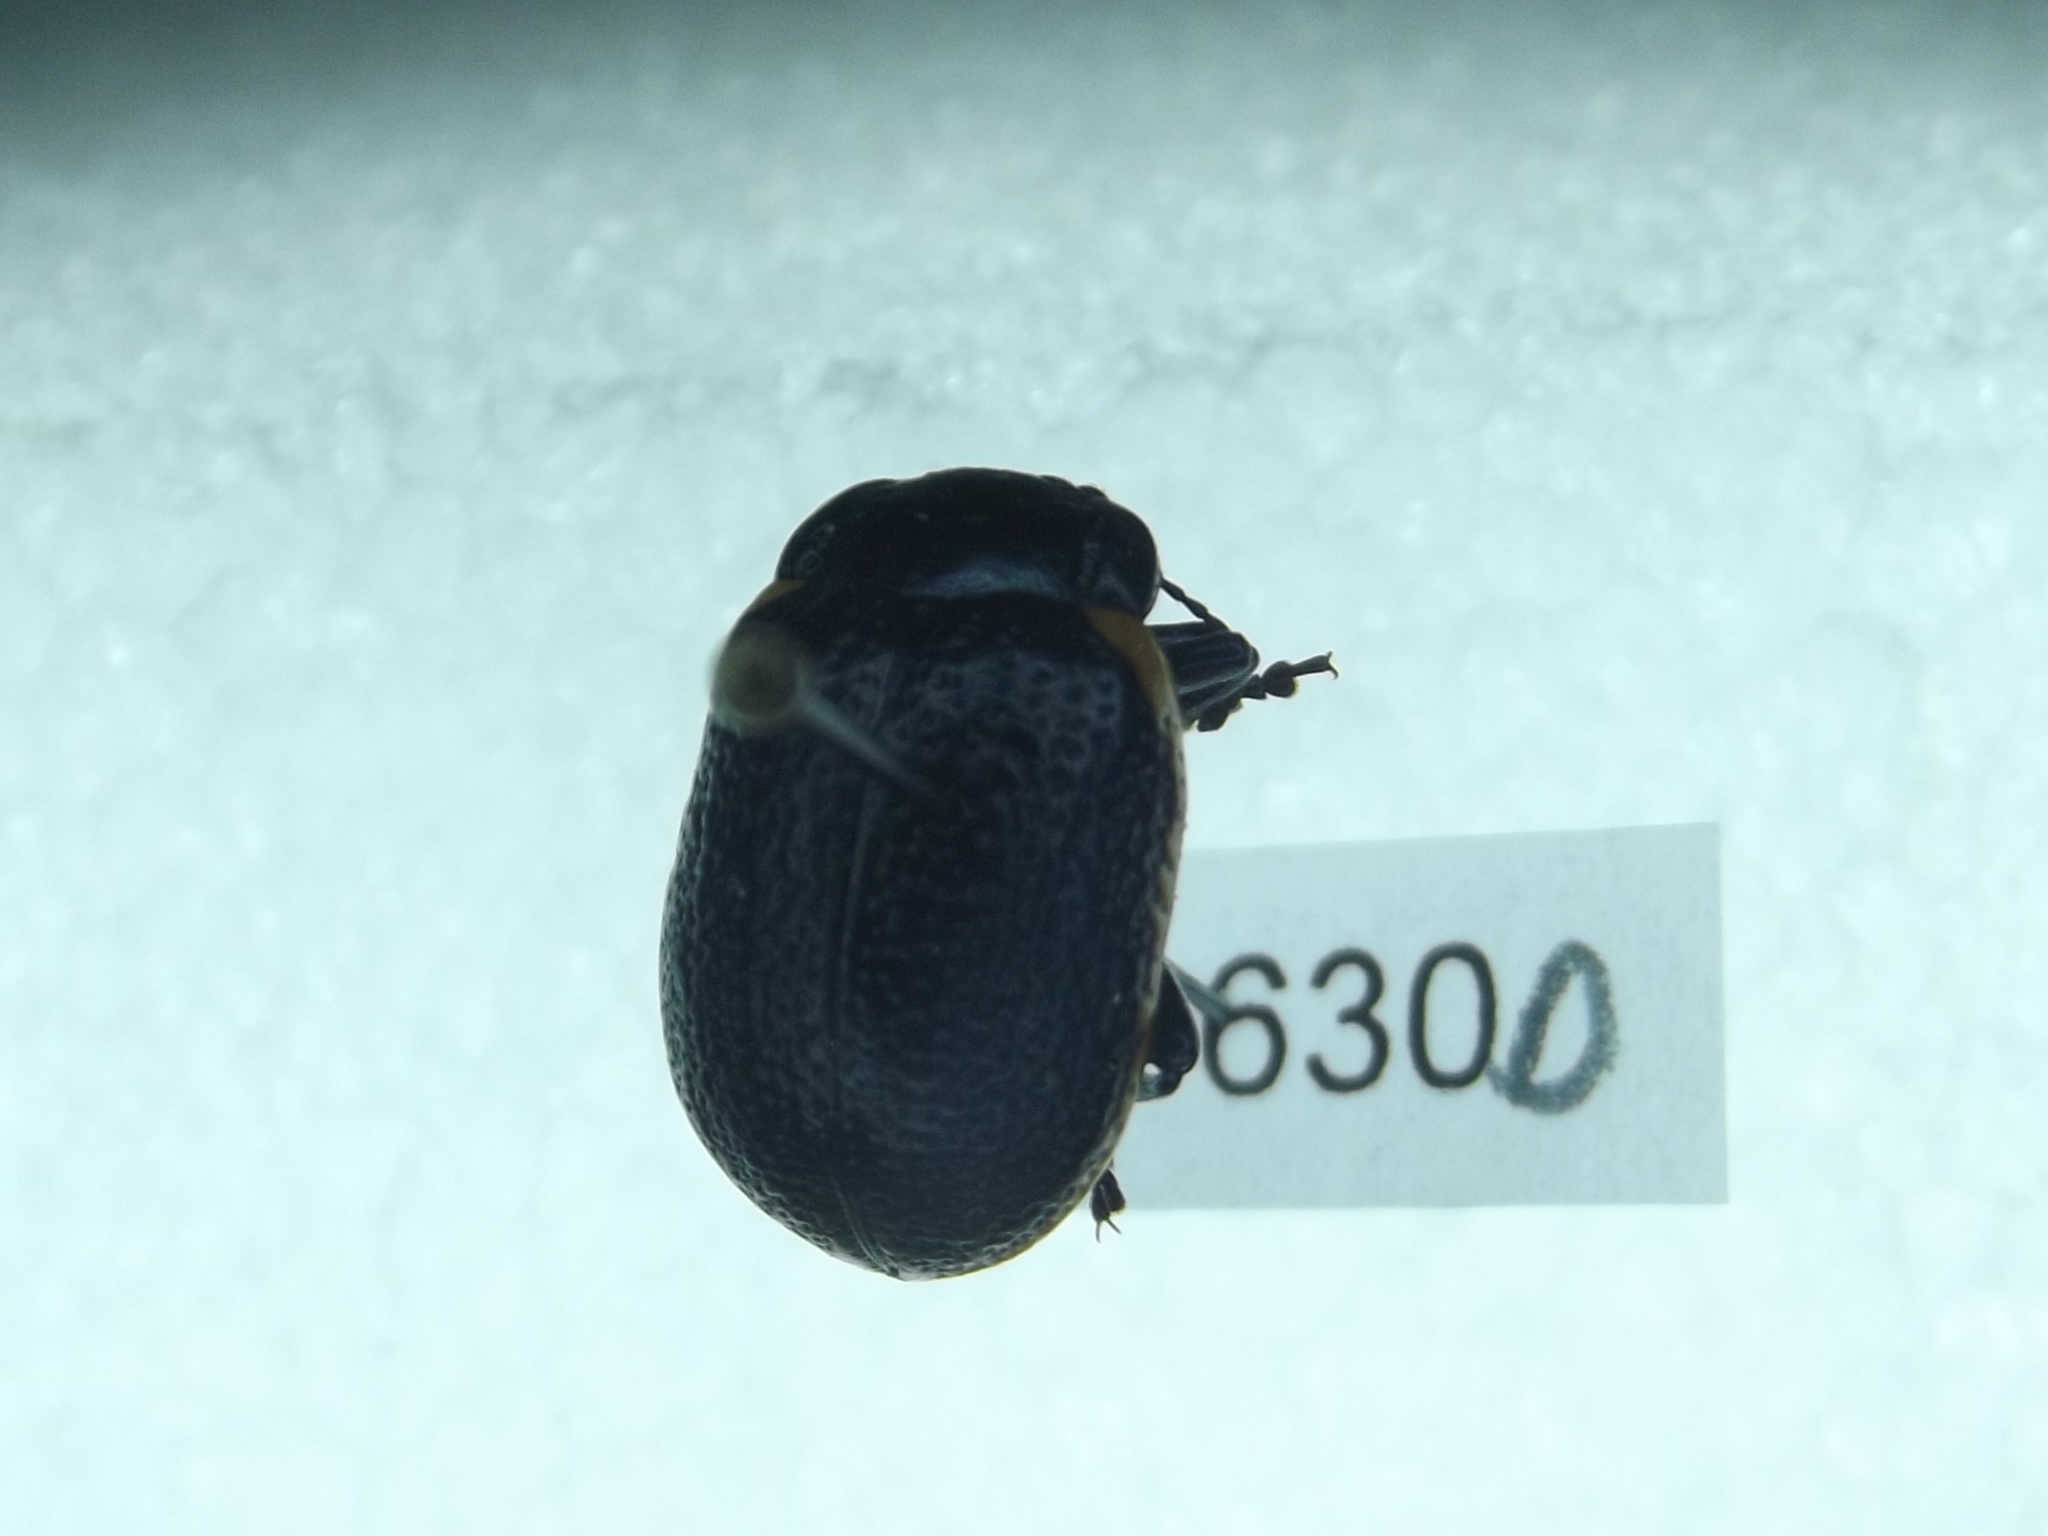Chrysolina_gypsophila: (643, 455, 1350, 1300)
